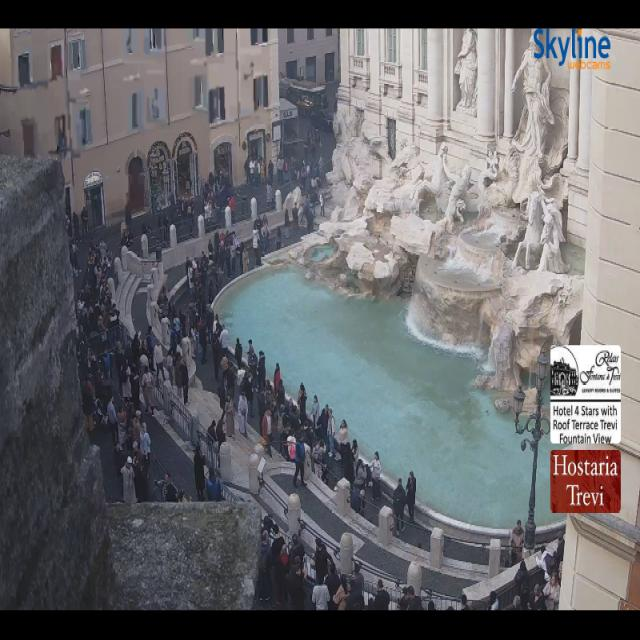person: (78, 297, 117, 407), (83, 355, 117, 444), (192, 237, 225, 325), (237, 341, 264, 430), (88, 262, 119, 332), (277, 382, 310, 429), (272, 525, 289, 606), (175, 289, 199, 345), (185, 280, 201, 355), (186, 284, 202, 355), (279, 383, 301, 434), (337, 421, 354, 486), (188, 300, 208, 354), (132, 442, 150, 502), (200, 232, 219, 288), (212, 231, 230, 290), (286, 558, 306, 610), (274, 537, 289, 606), (128, 333, 155, 371), (199, 232, 219, 280), (192, 251, 207, 315), (258, 532, 271, 601), (536, 546, 561, 581), (130, 333, 152, 371), (281, 410, 297, 461), (354, 461, 369, 515), (290, 144, 307, 191), (115, 342, 130, 395), (315, 538, 332, 584), (196, 276, 207, 346), (324, 562, 340, 610), (188, 286, 199, 355), (217, 357, 231, 411), (89, 355, 105, 402), (235, 339, 250, 387), (202, 171, 223, 205), (121, 457, 136, 504), (114, 342, 127, 396), (393, 479, 406, 533), (137, 333, 155, 372), (125, 333, 145, 368), (515, 560, 530, 606), (536, 546, 555, 581), (510, 520, 524, 566), (296, 139, 309, 187), (264, 379, 277, 427), (156, 474, 178, 502), (194, 447, 205, 501), (299, 169, 310, 223), (543, 573, 559, 610), (142, 370, 155, 415), (300, 132, 310, 190), (262, 408, 274, 456), (221, 357, 235, 398), (293, 443, 306, 487), (341, 443, 354, 487), (79, 317, 88, 380), (164, 481, 191, 502), (242, 370, 254, 417), (82, 382, 93, 433), (107, 395, 118, 446), (255, 223, 268, 266), (209, 185, 223, 224), (104, 293, 119, 329), (406, 471, 416, 524), (346, 581, 364, 610), (373, 580, 390, 610), (333, 576, 348, 610), (212, 334, 223, 380), (115, 441, 130, 474), (316, 405, 328, 446), (238, 388, 248, 437), (371, 452, 381, 501), (337, 421, 350, 458), (153, 342, 165, 380), (224, 397, 235, 438), (290, 534, 304, 566), (312, 584, 329, 610), (217, 236, 226, 285), (139, 343, 153, 374), (354, 459, 366, 493), (175, 311, 187, 345), (530, 585, 546, 610), (313, 439, 323, 479), (327, 408, 335, 457), (205, 304, 214, 347), (180, 357, 188, 404), (546, 551, 561, 576), (298, 383, 307, 424), (230, 233, 239, 274), (131, 365, 139, 411), (115, 444, 127, 474), (407, 586, 422, 610), (140, 423, 150, 458), (69, 241, 79, 276), (351, 563, 363, 592), (174, 353, 182, 396), (303, 162, 314, 193), (262, 515, 279, 535), (265, 381, 275, 415), (122, 365, 131, 402), (276, 379, 286, 412), (257, 351, 265, 391), (283, 435, 295, 461), (203, 179, 215, 205), (312, 395, 319, 439), (252, 228, 260, 266), (220, 325, 230, 355), (216, 416, 226, 446), (286, 156, 299, 179), (132, 410, 141, 443), (248, 339, 257, 372), (199, 251, 208, 284), (131, 333, 140, 365), (200, 324, 207, 364), (145, 326, 155, 354), (352, 439, 359, 478), (225, 235, 231, 279), (351, 489, 362, 513), (170, 324, 178, 356), (397, 587, 408, 610), (520, 589, 532, 610), (235, 338, 243, 369), (505, 595, 521, 610), (252, 156, 260, 186), (311, 161, 320, 187), (556, 537, 564, 566), (120, 225, 130, 248), (398, 587, 408, 610), (81, 207, 88, 239), (307, 203, 314, 234), (99, 237, 108, 261), (157, 285, 167, 306), (488, 591, 499, 610), (294, 165, 303, 188), (185, 255, 191, 289), (292, 203, 299, 232), (274, 363, 280, 394), (208, 419, 216, 442), (214, 315, 222, 338), (248, 158, 255, 184), (73, 211, 79, 240), (124, 228, 132, 249), (242, 244, 248, 272), (228, 196, 235, 220), (214, 232, 219, 265), (318, 154, 324, 181), (307, 126, 315, 146), (283, 161, 291, 181), (360, 489, 366, 515), (365, 465, 372, 487), (284, 209, 289, 239), (178, 491, 191, 502), (208, 238, 214, 261), (276, 227, 282, 250), (260, 160, 266, 183), (267, 183, 272, 210), (461, 595, 470, 610), (97, 315, 104, 333), (320, 193, 325, 217), (311, 166, 316, 190), (268, 160, 273, 183), (558, 562, 563, 584), (306, 162, 311, 183), (310, 135, 315, 156), (367, 597, 374, 610), (315, 127, 320, 144), (428, 600, 435, 611), (322, 95, 327, 108), (133, 431, 137, 443), (447, 606, 455, 610)
